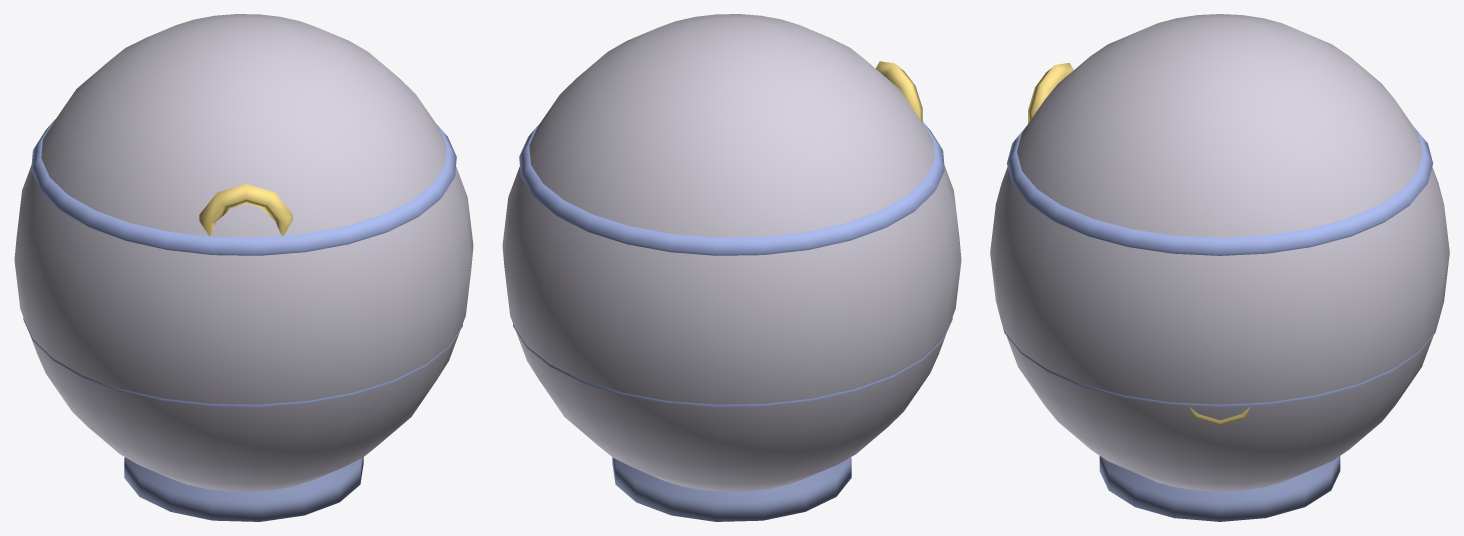
File: egg_snow_02.glb
The picture shows the model from 3 angles, left to right: view 1: azimuth 30°, elevation 25°; view 2: azimuth 150°, elevation 25°; view 3: azimuth 270°, elevation 25°; orthographic projection.
Parts seen in each view (by area): view 1: ball; view 2: ball; view 3: ball.
Part boxes in pixels (<box>): ball: <box>14,14,473,521</box>; ball: <box>502,14,961,521</box>; ball: <box>990,14,1449,521</box>.
Bounding box in the file's own units: 0.84 × 0.88 × 0.84.
